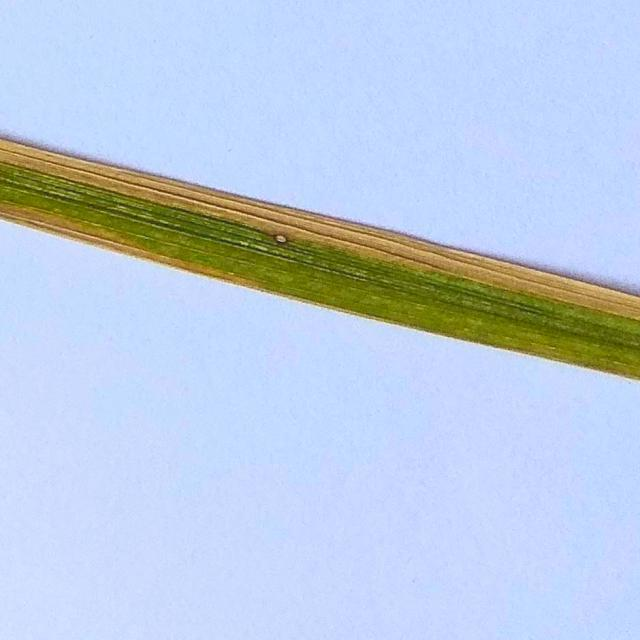Blast: (268, 224, 304, 251)
